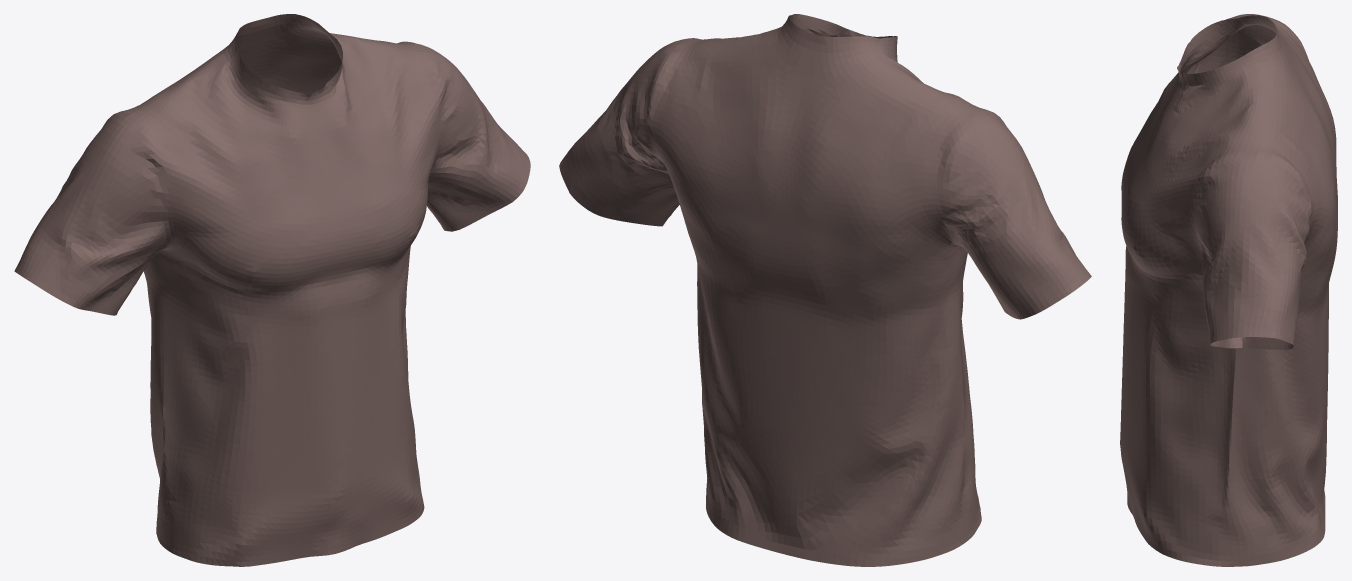
3 views of the same model, side by side, from view 1: azimuth 30°, elevation 25°; view 2: azimuth 150°, elevation 25°; view 3: azimuth 270°, elevation 25° (orthographic). The views are drawn at different scales.
Visible parts, largest first — view 1: T-Shirt; view 2: T-Shirt; view 3: T-Shirt.
Part boxes in pixels (<box>): T-Shirt: <box>14,14,530,566</box>; T-Shirt: <box>559,14,1091,566</box>; T-Shirt: <box>1120,14,1337,566</box>.
Bounding box in the file's own units: 249 × 232 × 94.36.
